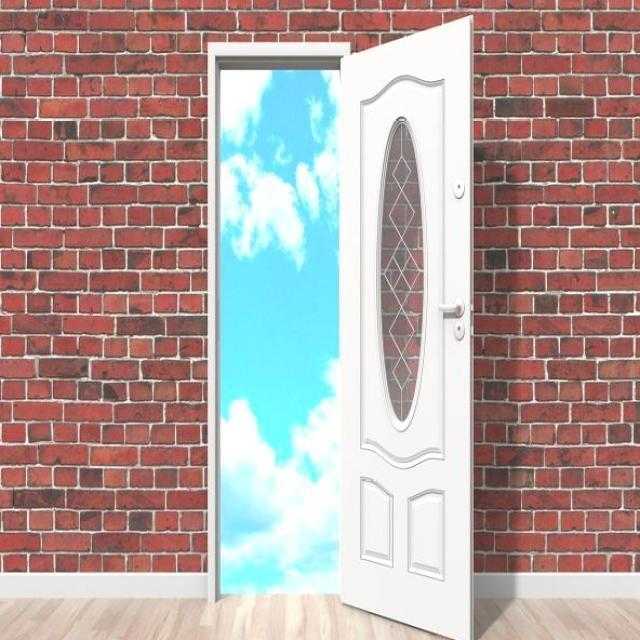door: (337, 13, 474, 639)
